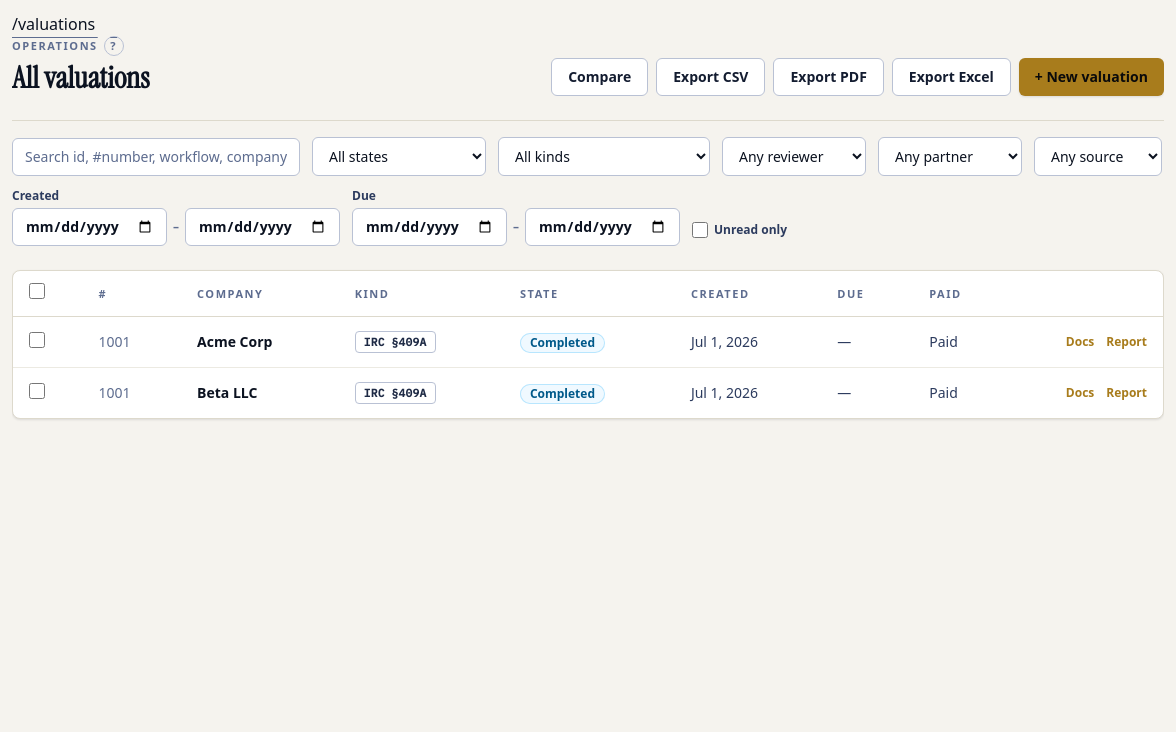
Test: ValuationsPage — opening a valuation from the table › selects a row without opening it
The image size is (1176, 732).
Click the checkbox named "Select Acme Corp": (37,340) [29,332,45,348]
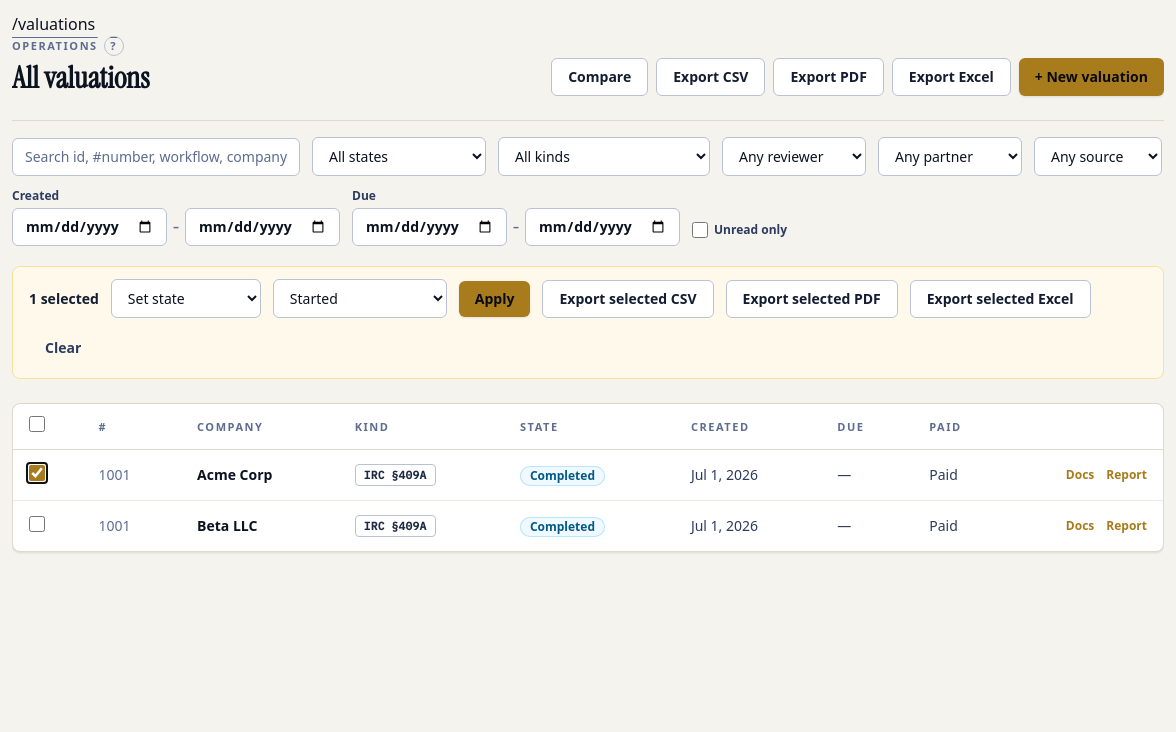
Expected: the text with test id "where" reads "/valuations", [12,13,95,35]
Result: the checkbox named "Select Acme Corp" is checked at [29,464,45,480]
Result: the text "1 selected" is shown at [29,288,99,308]
